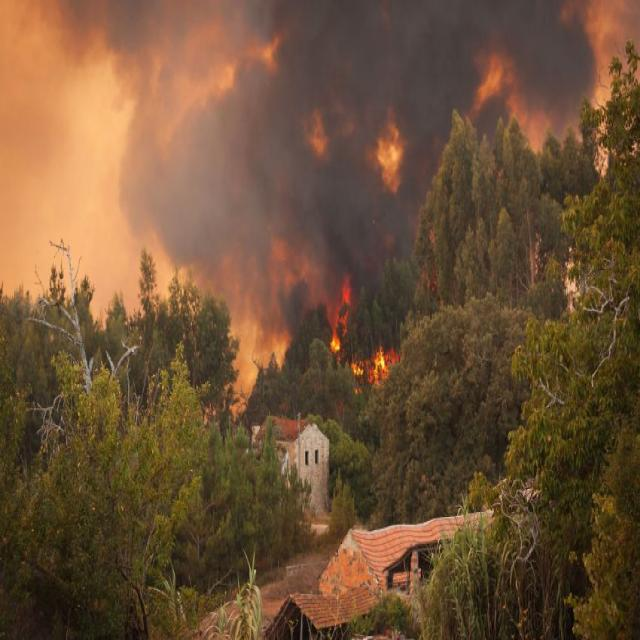Smoke: (167, 110, 416, 247), (274, 0, 591, 104)
